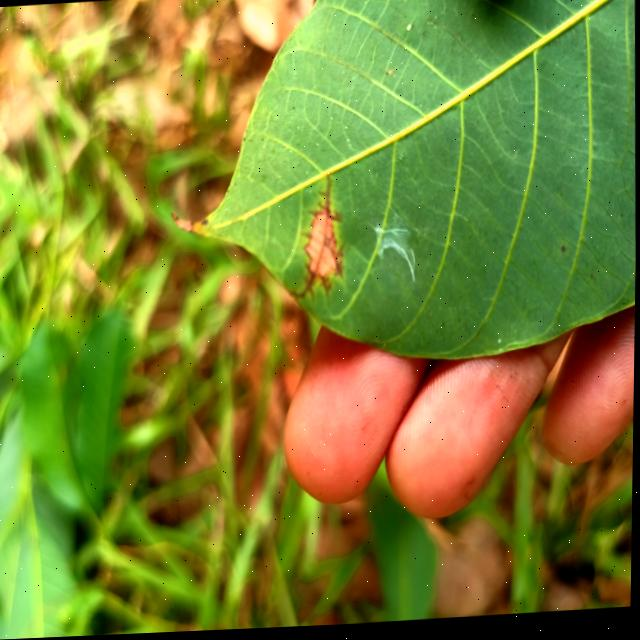Corynespora: (289, 175, 344, 304)
Leaf-Blight: (308, 215, 336, 277)
